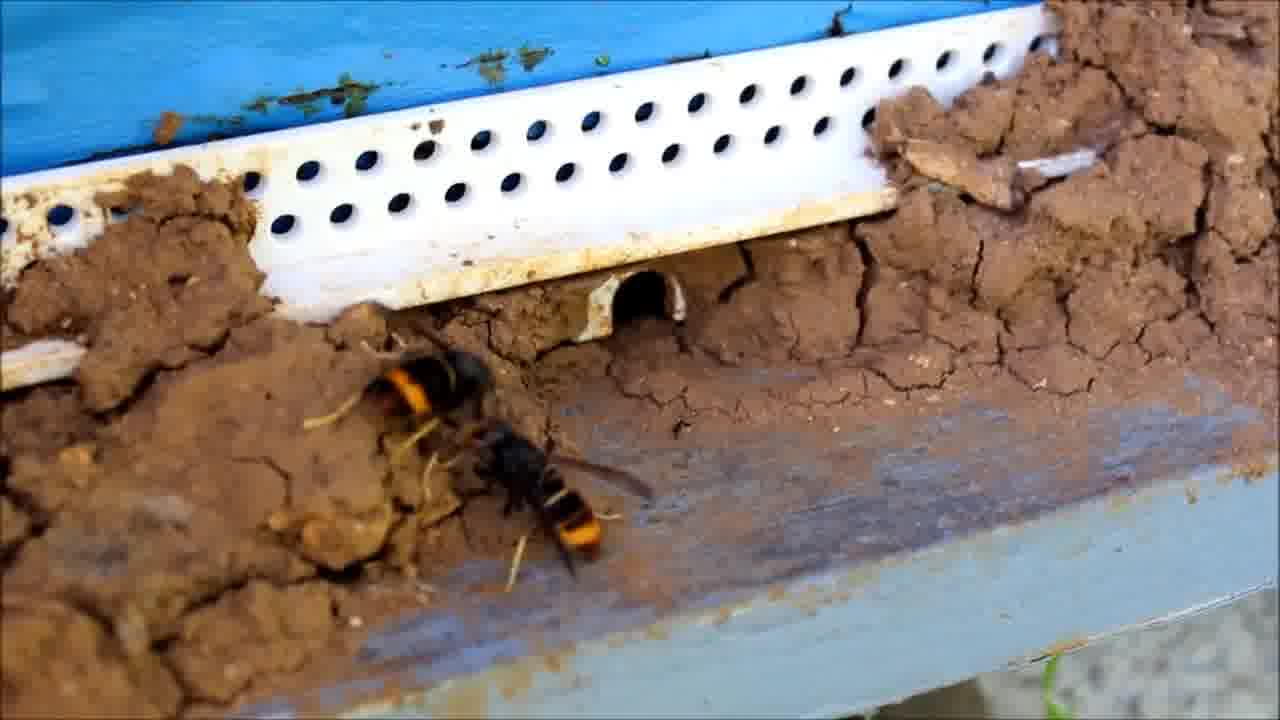hornet: (462, 425, 639, 574), (352, 322, 514, 445)
